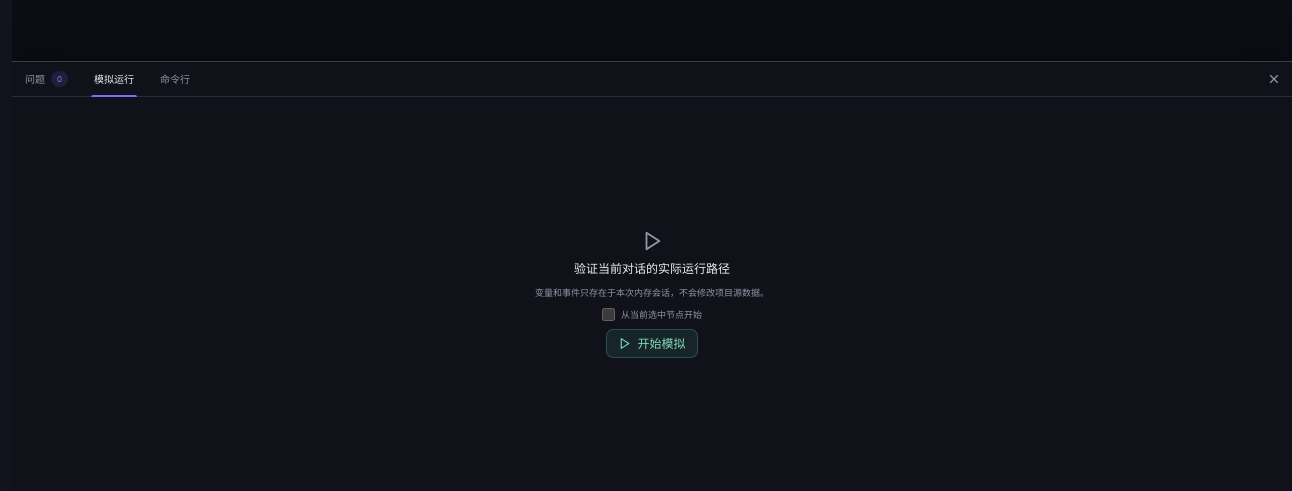
Test: simulator waits at an empty node without rendering a dialogue
Click the button "开始模拟": {"x": 652, "y": 344} 606,329 -> 698,358
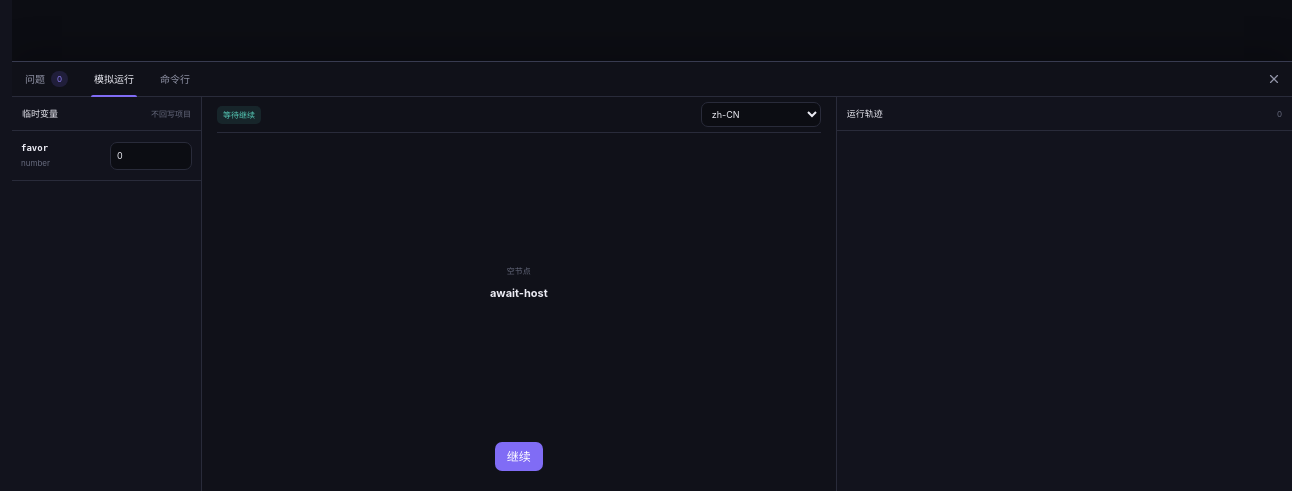
Result: the text "await-host" is shown at 490,285 -> 548,301
Result: the text "空节点" is shown at 507,267 -> 531,276
Click the button "继续": {"x": 519, "y": 456} 495,442 -> 543,471
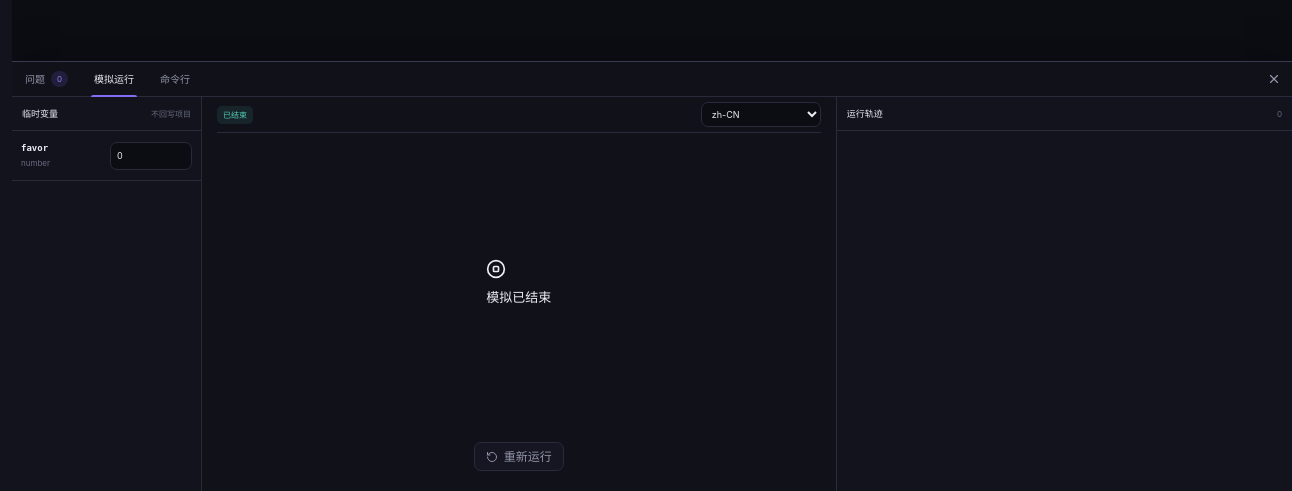
Result: the text "模拟已结束" is shown at 486,286 -> 551,308
